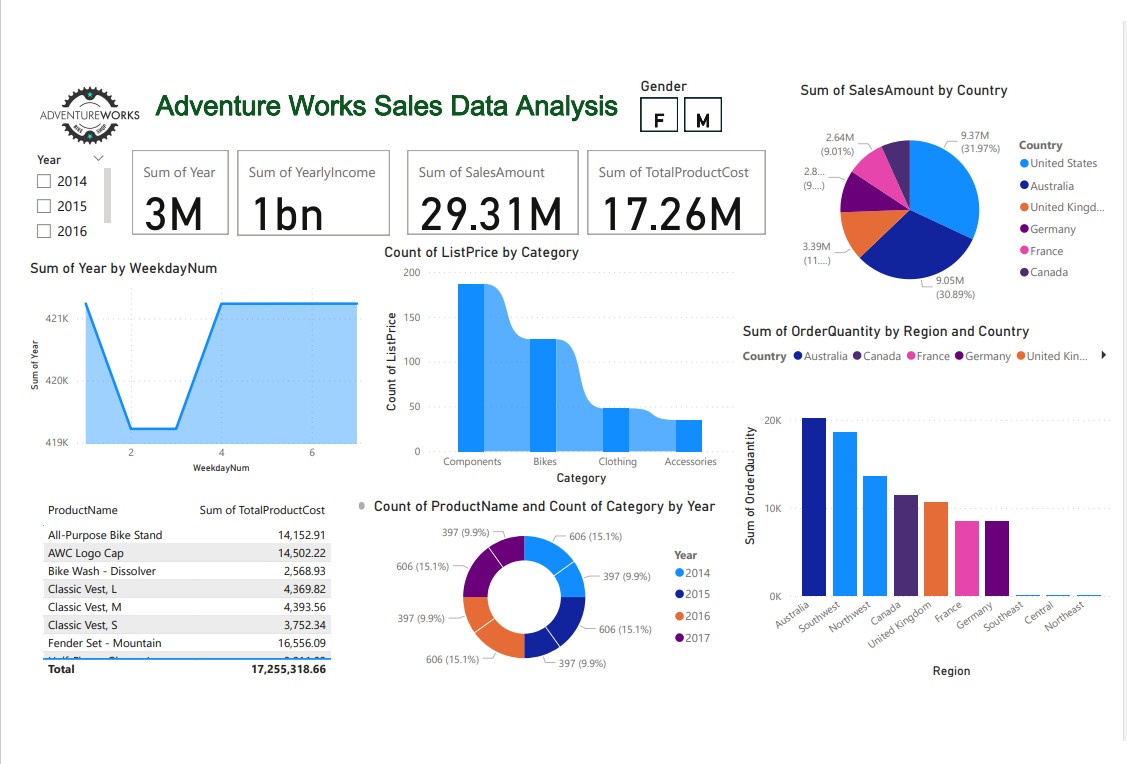

The page's visual inventory and layout, read from the dashboard file:
{"tool":"powerbi","page":{"name":"Page 1","canvas":[1280,720],"ordinal":0},"visuals":[{"type":"image","box":[0,0,151.1,100],"z":0},{"type":"textbox","box":[141.4,11.5,562.1,60.9],"z":1000},{"type":"pieChart","fields":{"Category":["Territories.Country"],"Y":["Sum(Sales.SalesAmount)"]},"box":[898.9,11.5,374.7,279.3],"z":2000},{"type":"lineStackedColumnComboChart","fields":{"Category":["Territories.Region"],"Y":["Sum(Sales2.OrderQuantity)"],"Series":["Territories.Country"]},"box":[832.2,290.8,441.4,419.5],"z":3000},{"type":"donutChart","fields":{"Category":["Calendar.Year"],"Y":["CountNonNull(Product.ProductName)","CountNonNull(Product.Category)"]},"box":[402.3,495.4,410.3,214.9],"z":4000},{"type":"tableEx","fields":{"Values":["Product.ProductName","Sum(Sales.TotalProductCost)"]},"box":[16.1,495.4,386.2,214.9],"z":5000},{"type":"ribbonChart","fields":{"Category":["Product.Category"],"Y":["CountNonNull(Product.ListPrice)"]},"box":[413.8,200,418.4,286.2],"z":6000},{"type":"advancedSlicerVisual","fields":{"Values":["Customers.Gender"]},"box":[712.6,5.7,157.5,165.5],"z":7000},{"type":"stackedAreaChart","fields":{"Category":["Calendar.WeekdayNum"],"Y":["Sum(Calendar.Year)"]},"box":[1.1,218.4,401.1,254],"z":8000},{"type":"slicer","fields":{"Values":["Calendar.Year"]},"box":[1.1,88.5,103.4,114.9],"z":9000},{"type":"cardVisual","fields":{"Data":["Sum(Calendar.Year)"]},"box":[119.5,86.2,123,108],"z":10000},{"type":"cardVisual","fields":{"Data":["Sum(Customer.YearlyIncome)"]},"box":[242.5,86.2,187.4,109.2],"z":11000},{"type":"cardVisual","fields":{"Data":["Sum(Sales.TotalProductCost)"]},"box":[650.6,86.2,217.2,108],"z":12000},{"type":"cardVisual","fields":{"Data":["Sum(Sales.SalesAmount)"]},"box":[441.4,86.2,209.2,108],"z":13000}]}

Visuals, with their boxes on the page's 1280x720 design canvas (x1, y1, x2, y2). These are canvas units, not pixel positions in the 1127x764 screenshot, which may show the page scaled, cropped or inside an application window:
image: bbox=(0, 0, 151, 100)
textbox: bbox=(141, 12, 704, 72)
pieChart - Territories.Country x Sum(Sales.SalesAmount): bbox=(899, 12, 1274, 291)
lineStackedColumnComboChart - Territories.Region x Sum(Sales2.OrderQuantity): bbox=(832, 291, 1274, 710)
donutChart - Calendar.Year x CountNonNull(Product.ProductName): bbox=(402, 495, 813, 710)
tableEx - Product.ProductName x Sum(Sales.TotalProductCost): bbox=(16, 495, 402, 710)
ribbonChart - Product.Category x CountNonNull(Product.ListPrice): bbox=(414, 200, 832, 486)
advancedSlicerVisual - Customers.Gender: bbox=(713, 6, 870, 171)
stackedAreaChart - Calendar.WeekdayNum x Sum(Calendar.Year): bbox=(1, 218, 402, 472)
slicer - Calendar.Year: bbox=(1, 88, 104, 203)
cardVisual - Sum(Calendar.Year): bbox=(120, 86, 242, 194)
cardVisual - Sum(Customer.YearlyIncome): bbox=(242, 86, 430, 195)
cardVisual - Sum(Sales.TotalProductCost): bbox=(651, 86, 868, 194)
cardVisual - Sum(Sales.SalesAmount): bbox=(441, 86, 651, 194)
